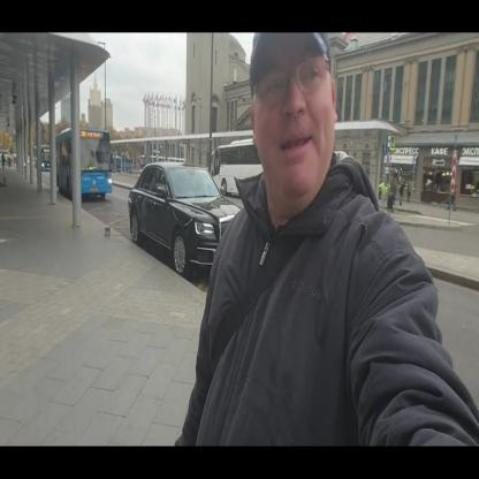bus: (57, 129, 114, 202), (211, 140, 262, 200)
